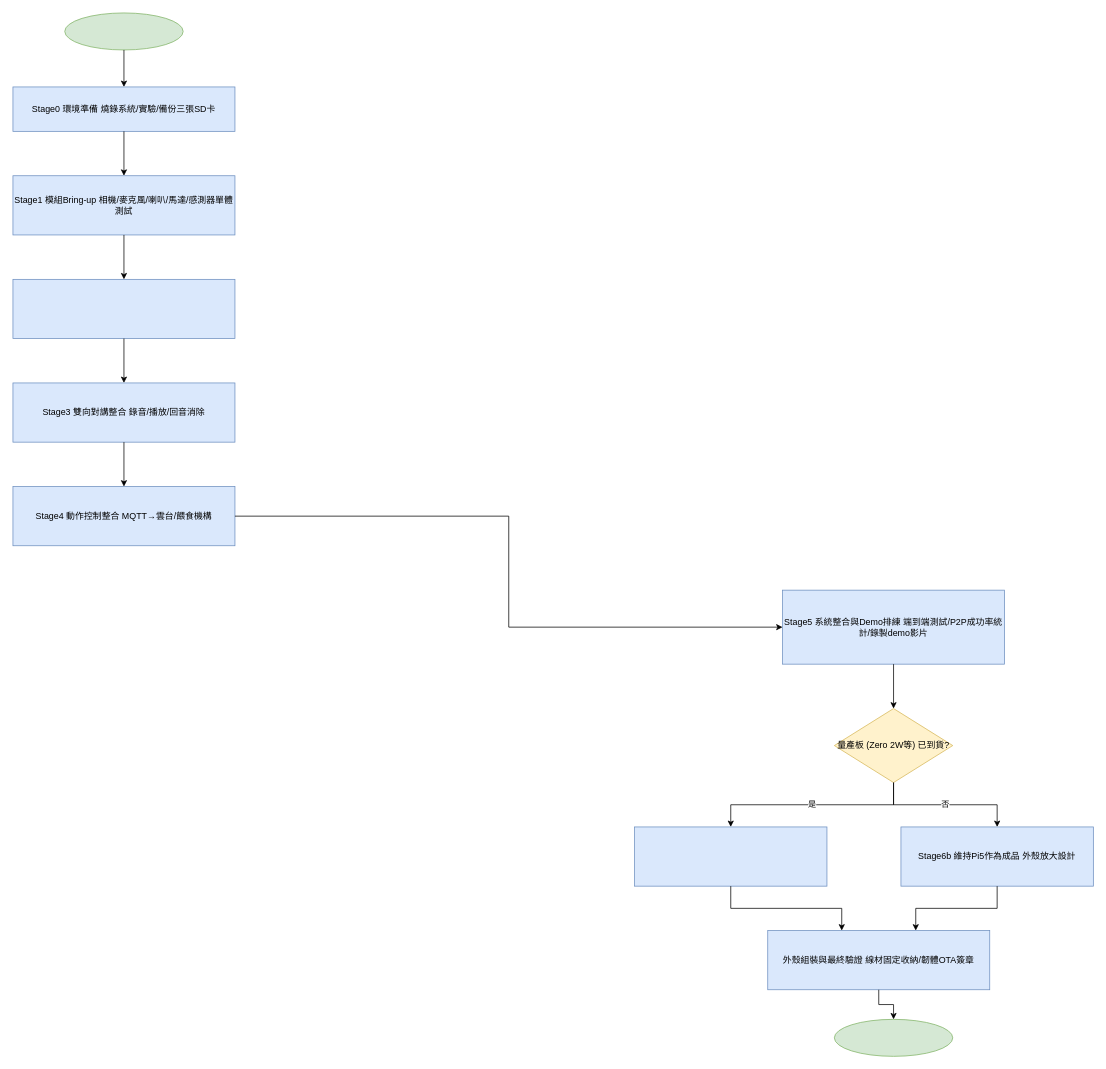
Image size: 1106x1069. Some labels were removed from this diagram. Each missing label, with the centre of its shape:
"Stage2 影像串流整合 相機→H.264→RTSP→WebRTC" goes at [123,309].
"Stage6a 移植量產板 重跑Stage1~5全部驗收項目" goes at [730,856].
"結束" goes at [893,1037].
"開始" goes at [123,31].
